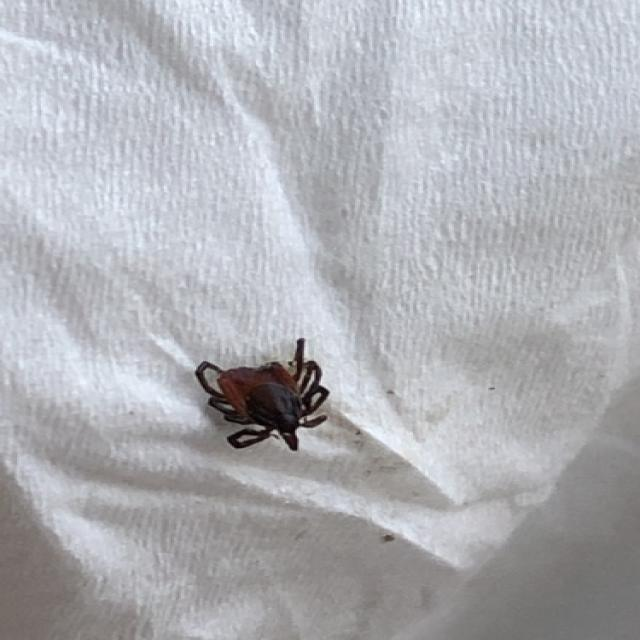Ixodes Ricinus-F: (193, 343, 331, 453)
